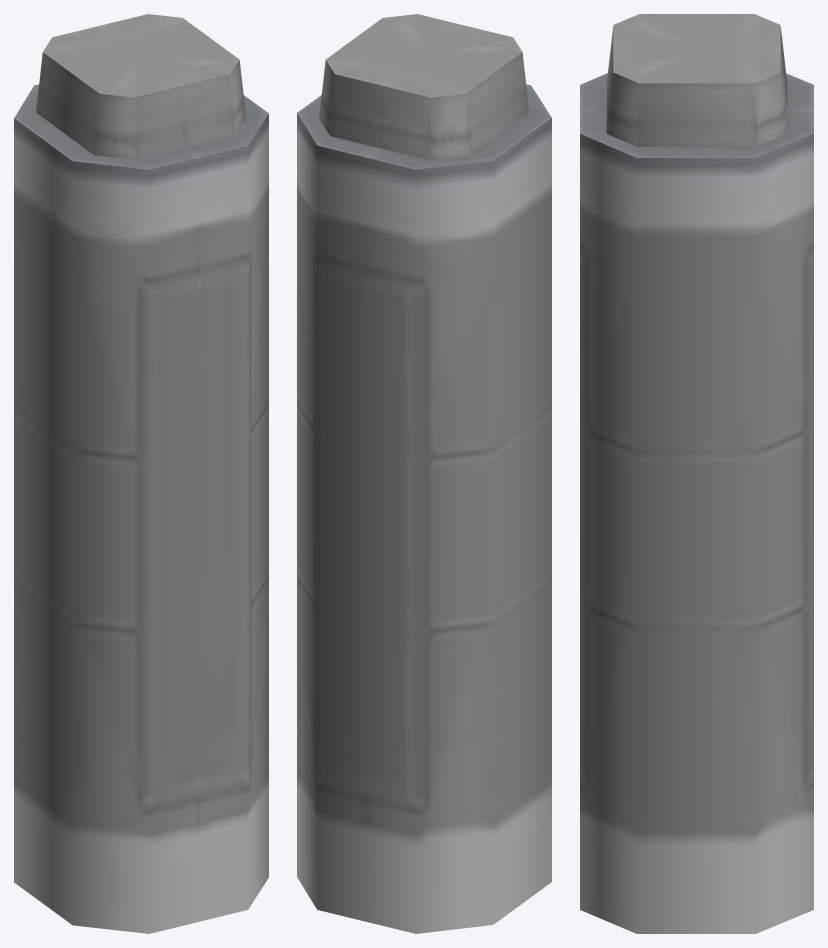
Rendered from Part - Pillar 05-C7mXMRB1.glb.
The picture shows the model from 3 angles, left to right: view 1: azimuth 30°, elevation 25°; view 2: azimuth 150°, elevation 25°; view 3: azimuth 270°, elevation 25°; orthographic projection.
Parts seen in each view (by area): view 1: Pillar_05; view 2: Pillar_05; view 3: Pillar_05.
Part boxes in pixels (x1,y1,x2,y2): Pillar_05: (14, 14, 268, 933); Pillar_05: (297, 14, 551, 933); Pillar_05: (580, 14, 813, 933).
Size of the model in its own units: 0.2576 by 1.03 by 0.2619.
Materials: 1 (1 with a texture image).
